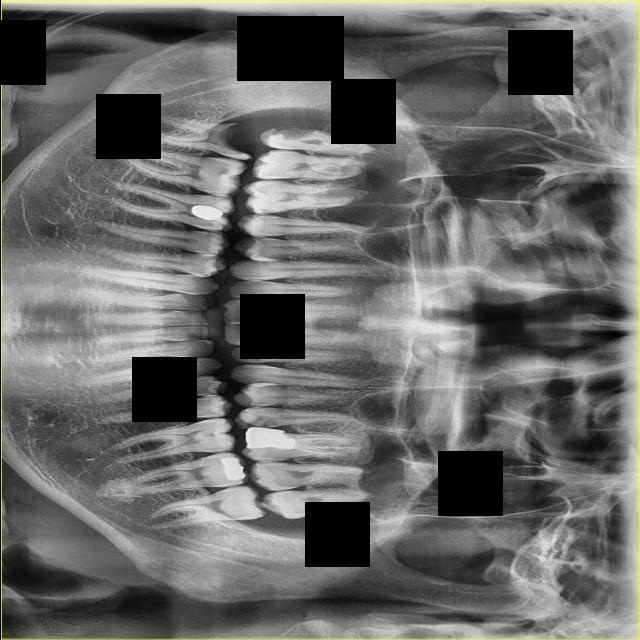74: (292, 445, 347, 459), (300, 444, 355, 452), (298, 438, 356, 441)
NucleOSS Implant: (243, 426, 296, 450), (219, 453, 246, 484), (190, 203, 222, 224)
Sterngold Implant: (213, 121, 243, 161), (269, 124, 317, 142), (245, 414, 279, 429), (211, 163, 230, 182), (202, 231, 219, 239), (250, 401, 271, 407), (260, 208, 276, 215), (205, 432, 215, 439), (211, 452, 222, 458), (205, 415, 214, 418)
